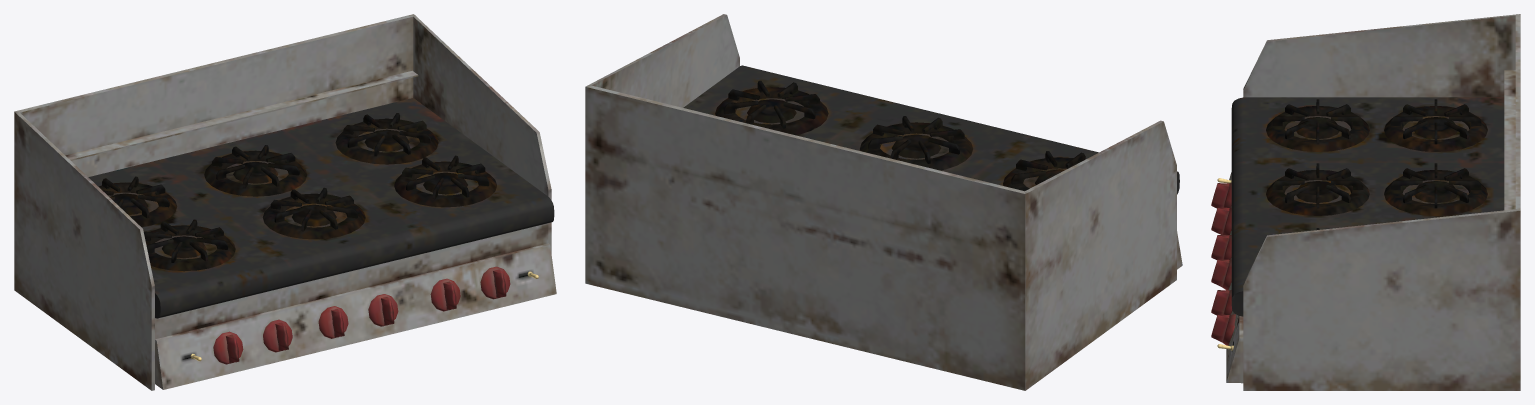
Rendered from sm24_005_stove01a.fbx.
3 views of the same model, side by side, from view 1: azimuth 30°, elevation 25°; view 2: azimuth 150°, elevation 25°; view 3: azimuth 270°, elevation 25° (orthographic). The views are drawn at different scales.
Visible parts, largest first — view 1: LOD_1_Group_0_Sub_1__sm24_005_Stove01A_A_Mat, LOD_1_Group_1_Sub_1__sm24_005_Stove01A_A_Mat, LOD_1_Group_2_Sub_1__sm24_005_Stove01A_A_Mat, LOD_1_Group_3_Sub_1__sm24_005_Stove01A_A_Mat; view 2: LOD_1_Group_0_Sub_1__sm24_005_Stove01A_A_Mat, LOD_1_Group_1_Sub_1__sm24_005_Stove01A_A_Mat; view 3: LOD_1_Group_0_Sub_1__sm24_005_Stove01A_A_Mat, LOD_1_Group_1_Sub_1__sm24_005_Stove01A_A_Mat, LOD_1_Group_3_Sub_1__sm24_005_Stove01A_A_Mat, LOD_1_Group_2_Sub_1__sm24_005_Stove01A_A_Mat.
Boxes of the visible parts, box(x1,y1,x2,y2) form: LOD_1_Group_0_Sub_1__sm24_005_Stove01A_A_Mat: box(14, 14, 551, 390); LOD_1_Group_1_Sub_1__sm24_005_Stove01A_A_Mat: box(88, 98, 554, 318); LOD_1_Group_2_Sub_1__sm24_005_Stove01A_A_Mat: box(155, 223, 556, 389); LOD_1_Group_3_Sub_1__sm24_005_Stove01A_A_Mat: box(213, 266, 510, 364); LOD_1_Group_0_Sub_1__sm24_005_Stove01A_A_Mat: box(585, 14, 1176, 390); LOD_1_Group_1_Sub_1__sm24_005_Stove01A_A_Mat: box(683, 65, 1179, 194); LOD_1_Group_0_Sub_1__sm24_005_Stove01A_A_Mat: box(1243, 14, 1520, 390); LOD_1_Group_1_Sub_1__sm24_005_Stove01A_A_Mat: box(1231, 97, 1504, 316); LOD_1_Group_3_Sub_1__sm24_005_Stove01A_A_Mat: box(1211, 183, 1235, 345); LOD_1_Group_2_Sub_1__sm24_005_Stove01A_A_Mat: box(1226, 172, 1243, 383).
Size of the model in its own units: 1.18 by 0.5062 by 0.7878.
